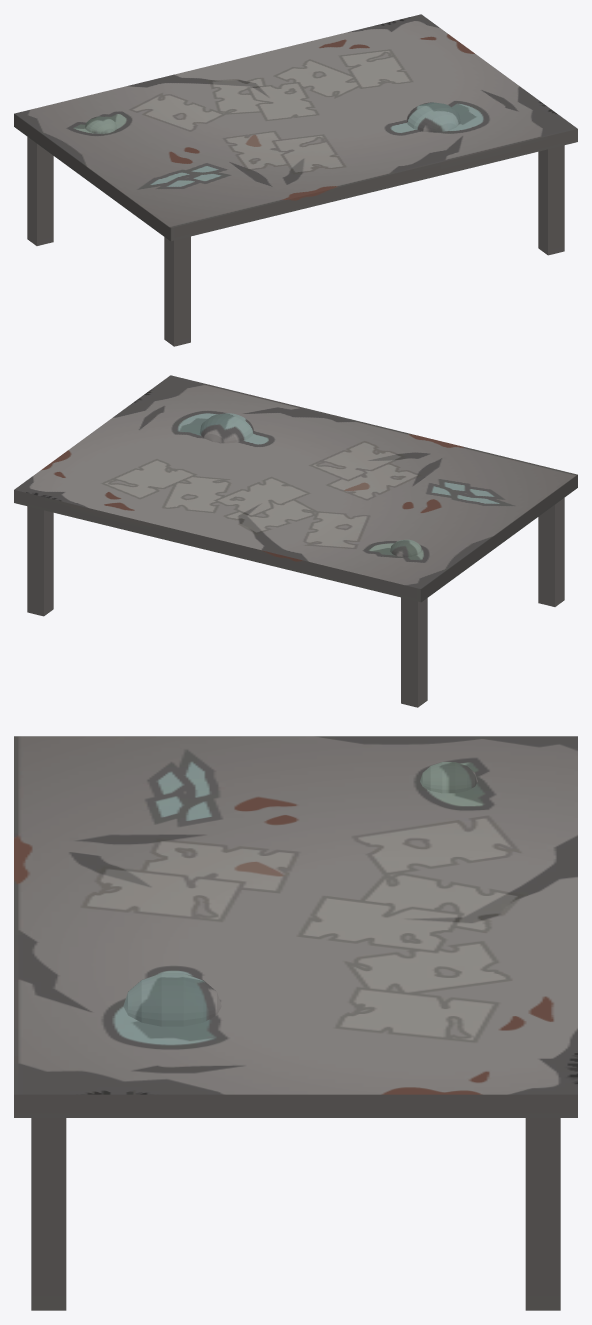
File: Building_AncientSimpleResearchBench.glb
3 views of the same model, one above another, from view 1: azimuth 30°, elevation 25°; view 2: azimuth 150°, elevation 25°; view 3: azimuth 270°, elevation 25° (orthographic). The views are drawn at different scales.
Parts seen in each view (by area): view 1: AncientSimpleResearchBench; view 2: AncientSimpleResearchBench; view 3: AncientSimpleResearchBench.
Part boxes in pixels (left/top/right/bottom): AncientSimpleResearchBench: left=14, top=14, right=577, bottom=346; AncientSimpleResearchBench: left=14, top=375, right=577, bottom=707; AncientSimpleResearchBench: left=14, top=736, right=577, bottom=1310.
Size of the model in its own units: 2.92 by 0.9494 by 1.95.
1 material, 1 textured.
